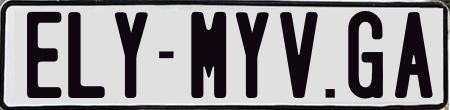A: (392, 10, 434, 97)
E: (26, 9, 64, 99)
G: (347, 10, 388, 101)
L: (65, 12, 106, 101)
M: (189, 10, 227, 96)
V: (280, 11, 323, 102)
Y: (115, 10, 150, 101), (236, 12, 272, 100)
